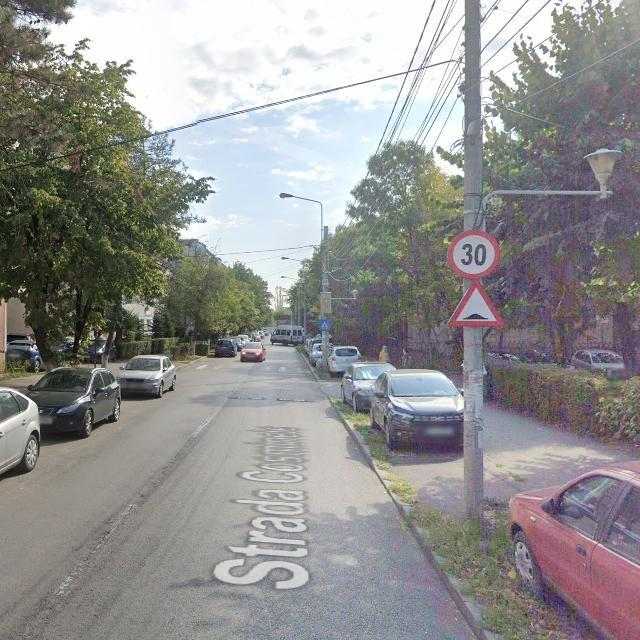forb_speed_over_30: (446, 227, 499, 278)
